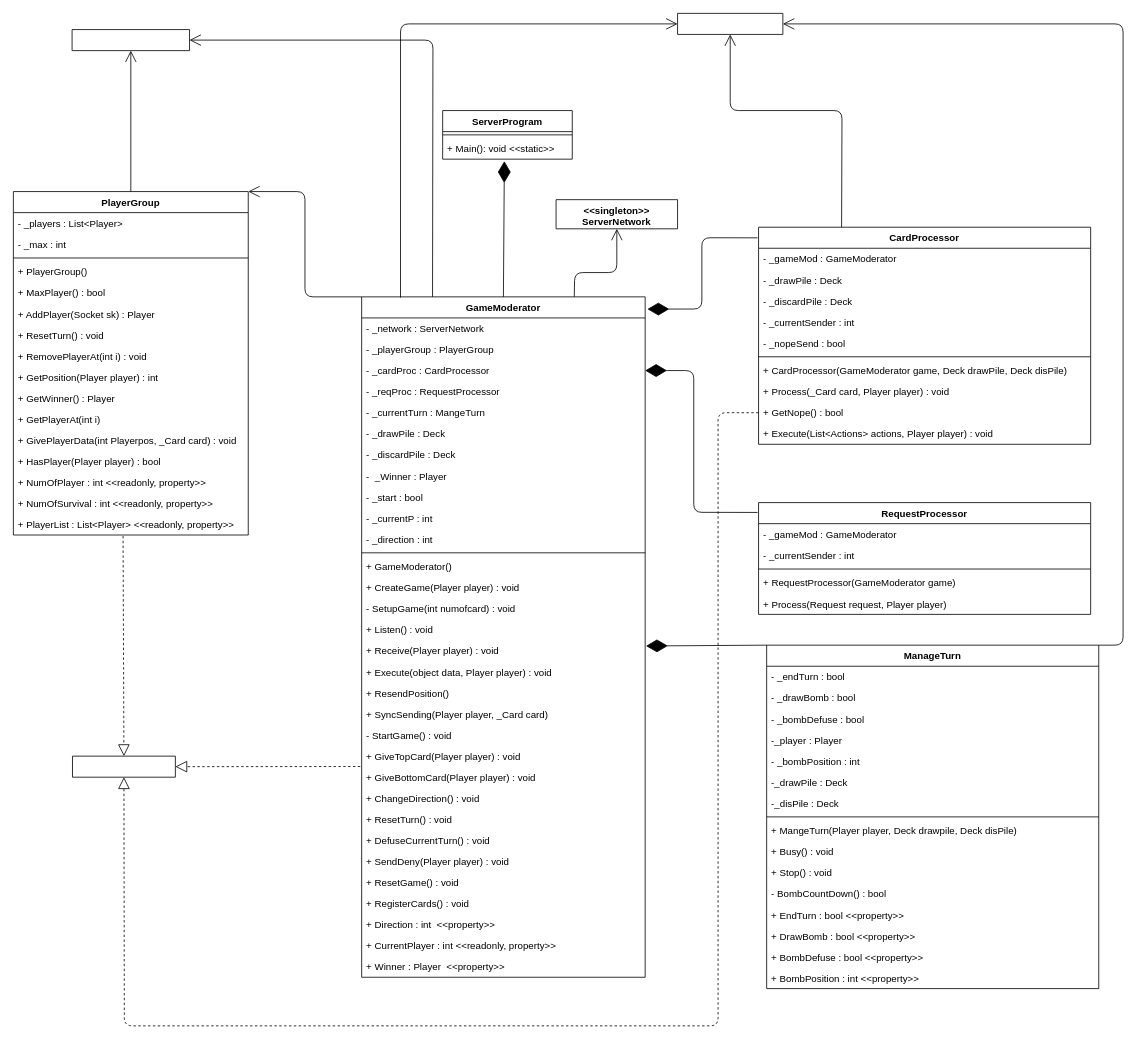
The diagram is 1136 pixels wide and 1039 high, and some of its shapes have lost their labels. Each missing label, with the centre of its shape:
Card: (123,766)
Deck: (730,23)
Player: (130,40)
